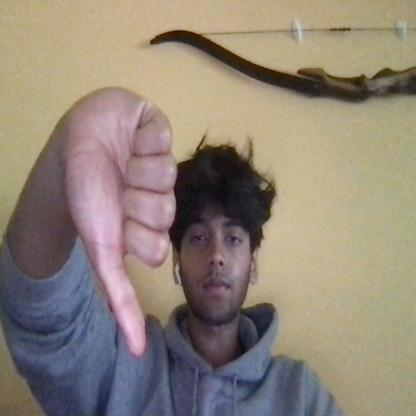Thumbs-Down: (57, 69, 178, 364)
